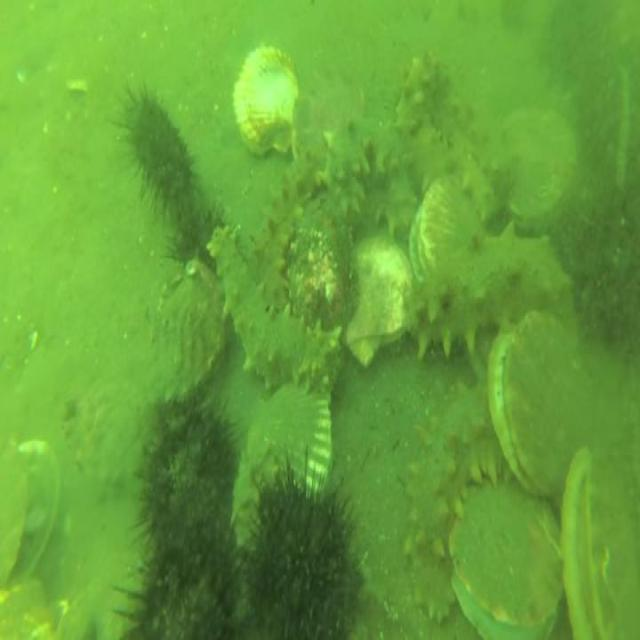echinus: (238, 458, 360, 640), (137, 403, 242, 570), (115, 535, 247, 640), (112, 76, 197, 229), (170, 198, 227, 262)
holothurian: (207, 216, 345, 402), (400, 216, 573, 364), (404, 379, 500, 626), (252, 158, 321, 310), (450, 126, 504, 223), (393, 44, 446, 136), (407, 120, 452, 193)
scallop: (489, 311, 587, 498), (452, 480, 566, 640), (231, 379, 333, 553), (563, 441, 637, 640), (493, 101, 582, 236), (0, 431, 64, 591), (347, 226, 413, 373), (289, 63, 371, 171), (231, 40, 300, 161), (416, 180, 448, 283)
